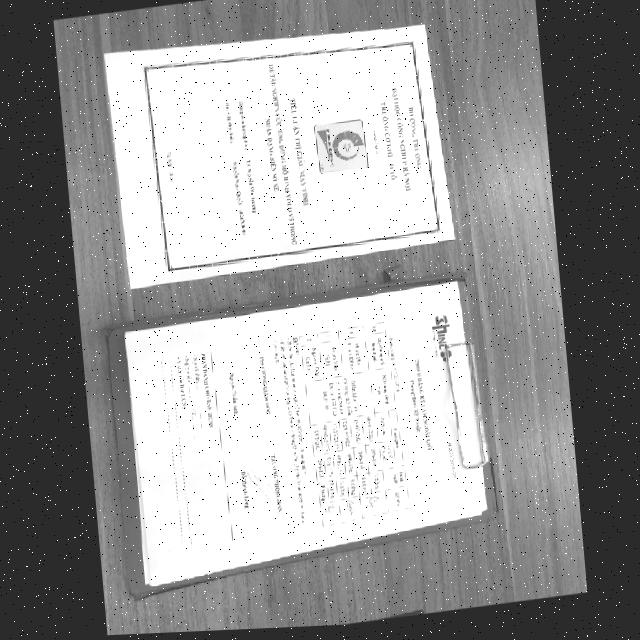document: (124, 281, 487, 587), (104, 25, 454, 288)
